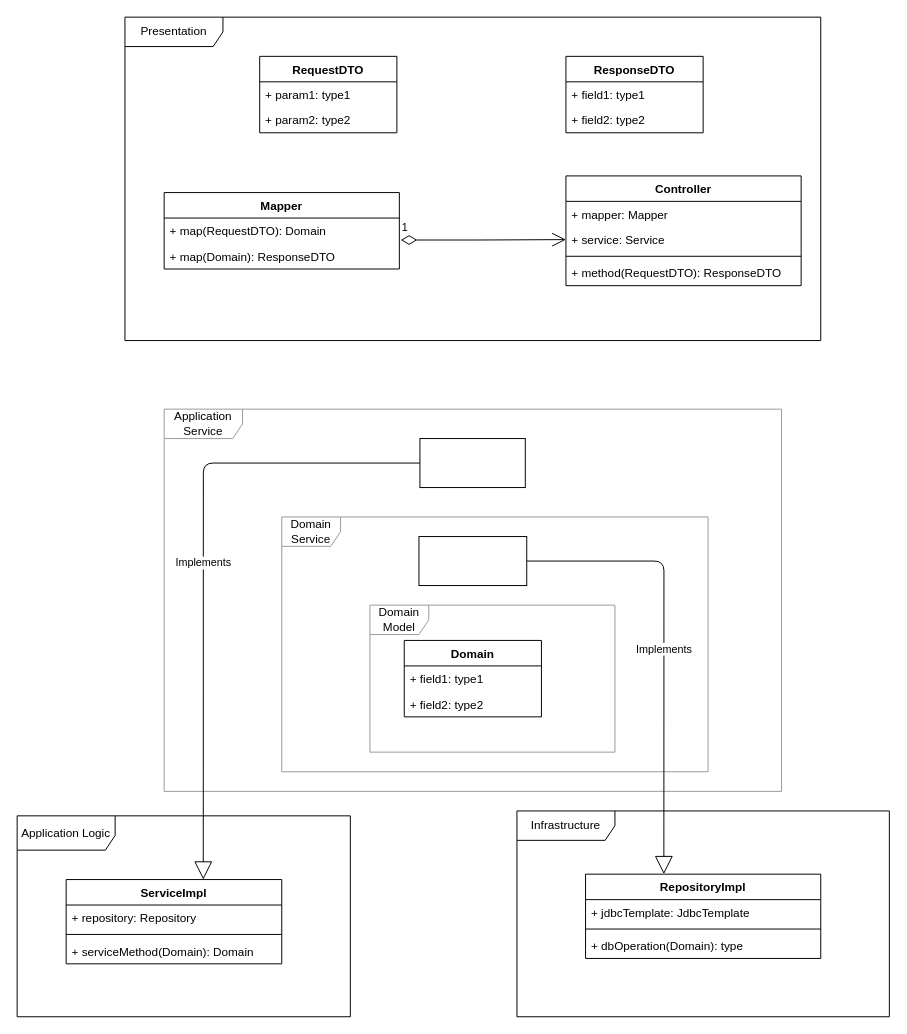
Some shapes in this 907 by 1034 pixel diagram are drawn without their labels. Here are the shapes that lost their labels. From the top down, the centre of each, then its label:
At pixel 472 463: "«interface» Service".
At pixel 472 561: "«interface» Repository".
